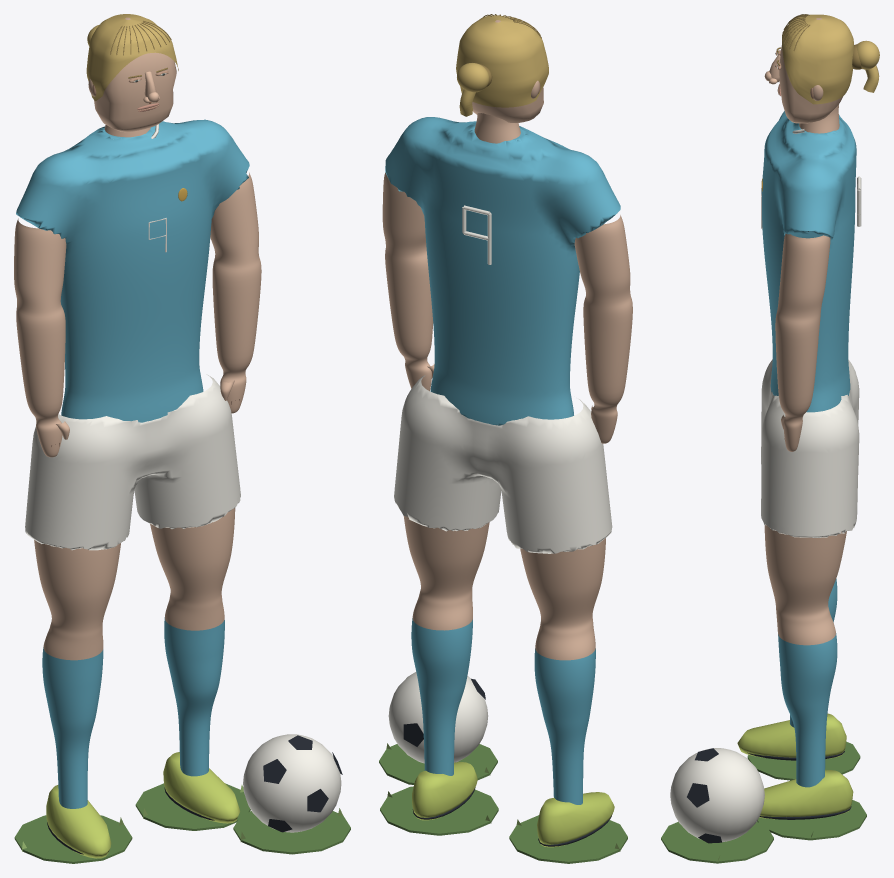
Rendered from haaland.glb.
3 renders of one model, left to right at view 1: azimuth 30°, elevation 25°; view 2: azimuth 150°, elevation 25°; view 3: azimuth 270°, elevation 25°, orthographic. The views are drawn at different scales.
Visible parts, largest first — view 1: jersey_cyan, shorts_white, arms_pale, legs_pale, legs_cyan, turf_grass, football_white, boots_lime, head_pale, hair_cap_blond, football_panels_ink; view 2: jersey_cyan, shorts_white, arms_pale, legs_pale, legs_cyan, turf_grass, hair_cap_blond, boots_lime, football_white, neck_pale, head_pale, hair_knot_blond (+2 smaller); view 3: jersey_cyan, shorts_white, arms_pale, legs_pale, turf_grass, football_white, legs_cyan, boots_lime, hair_cap_blond, head_pale, football_panels_ink, neck_pale (+2 smaller).
Boxes of the visible parts, bbox=[...] form: jersey_cyan: bbox=[16, 119, 249, 422]; shorts_white: bbox=[25, 374, 240, 550]; arms_pale: bbox=[14, 172, 261, 457]; legs_pale: bbox=[34, 508, 235, 660]; legs_cyan: bbox=[42, 617, 224, 808]; turf_grass: bbox=[14, 783, 350, 863]; football_white: bbox=[243, 734, 341, 832]; boots_lime: bbox=[46, 752, 240, 858]; head_pale: bbox=[94, 17, 176, 132]; hair_cap_blond: bbox=[86, 14, 178, 100]; football_panels_ink: bbox=[263, 735, 342, 832]; jersey_cyan: bbox=[385, 117, 620, 425]; shorts_white: bbox=[394, 375, 612, 553]; arms_pale: bbox=[382, 172, 632, 443]; legs_pale: bbox=[403, 516, 605, 660]; legs_cyan: bbox=[411, 618, 595, 804]; turf_grass: bbox=[379, 744, 627, 863]; hair_cap_blond: bbox=[456, 15, 548, 107]; boots_lime: bbox=[412, 762, 614, 847]; football_white: bbox=[388, 672, 488, 763]; neck_pale: bbox=[474, 113, 520, 143]; head_pale: bbox=[472, 20, 543, 122]; hair_knot_blond: bbox=[457, 63, 489, 92]; jersey_cyan: bbox=[761, 111, 856, 412]; shorts_white: bbox=[761, 359, 859, 537]; arms_pale: bbox=[775, 233, 830, 451]; legs_pale: bbox=[764, 525, 846, 645]; turf_grass: bbox=[661, 741, 866, 863]; football_white: bbox=[670, 748, 764, 842]; legs_cyan: bbox=[778, 578, 837, 787]; boots_lime: bbox=[737, 713, 853, 819]; hair_cap_blond: bbox=[782, 14, 853, 104]; head_pale: bbox=[779, 18, 842, 123]; football_panels_ink: bbox=[687, 748, 722, 843]; neck_pale: bbox=[799, 104, 839, 133].
Size of the model in its own units: 0.7223 by 1.95 by 0.5033.
